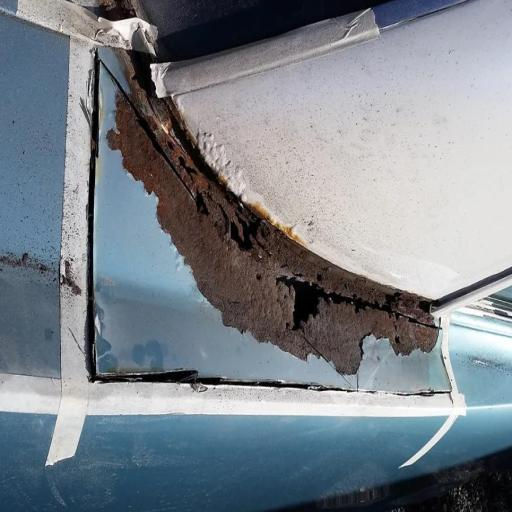corrosion: (23, 38, 451, 440), (44, 92, 450, 430)
